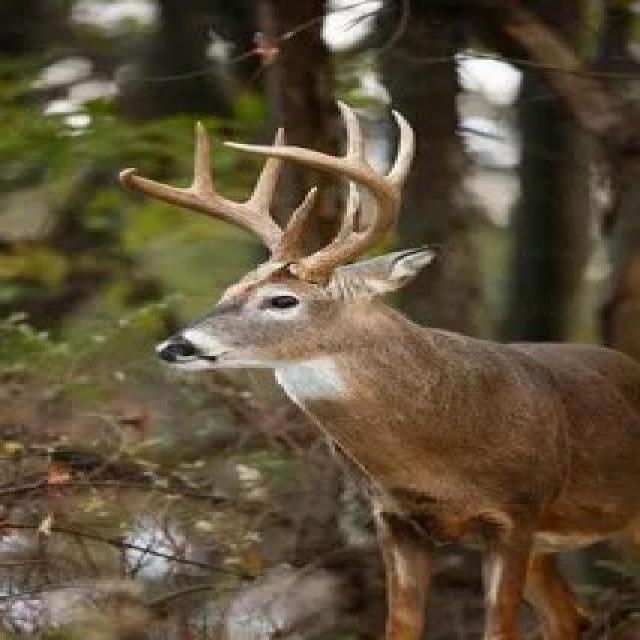deer: (104, 96, 640, 624)
